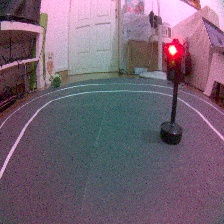red: (159, 37, 187, 148)
